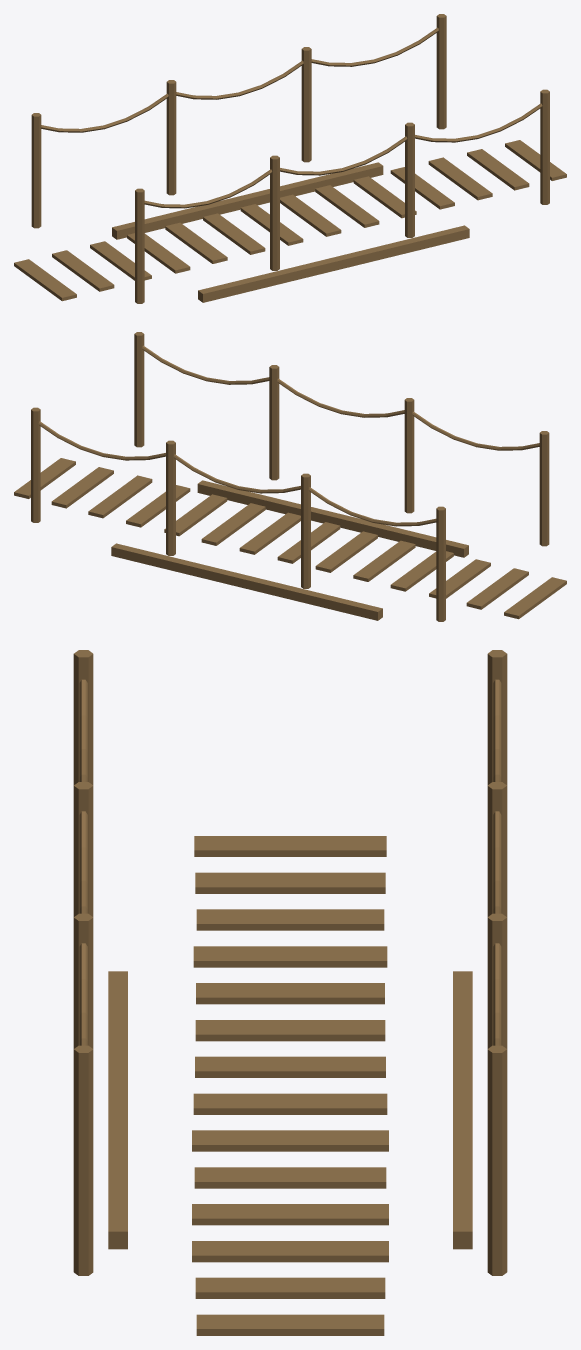
File: wooden_bridge.glb
The picture shows the model from 3 angles, top to bottom: view 1: azimuth 30°, elevation 25°; view 2: azimuth 150°, elevation 25°; view 3: azimuth 270°, elevation 25°; orthographic projection. The views are drawn at different scales.
Visible parts, largest first — view 1: wooden_bridge; view 2: wooden_bridge; view 3: wooden_bridge.
Part boxes in pixels (bbox=[...]): wooden_bridge: bbox=[14, 14, 566, 303]; wooden_bridge: bbox=[14, 332, 566, 621]; wooden_bridge: bbox=[73, 650, 507, 1335].
Bounding box in the file's own units: 2.37 × 0.6 × 0.88.
